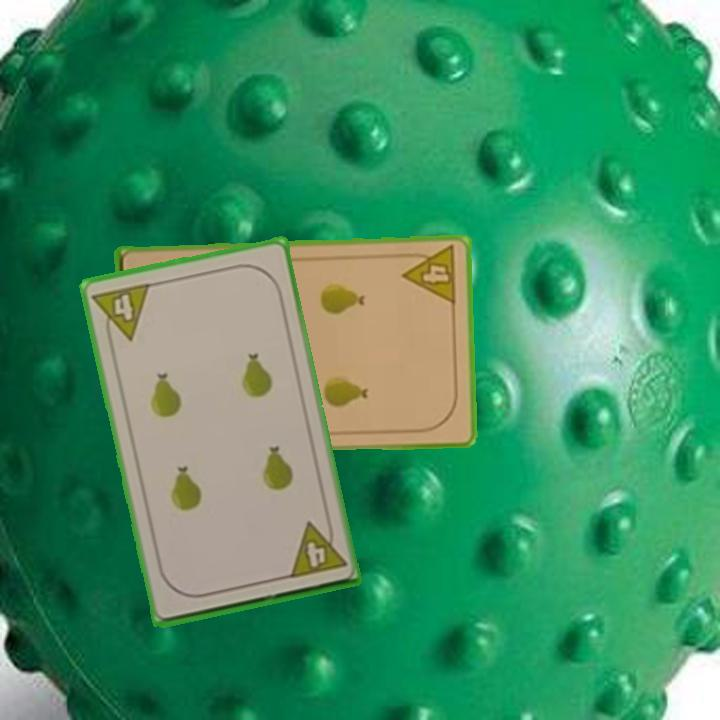4p: (89, 279, 153, 347), (285, 515, 349, 581), (399, 242, 460, 307)
